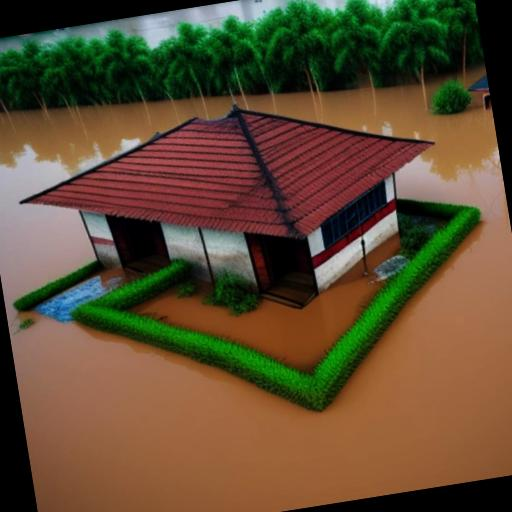flood: (0, 83, 512, 512), (130, 261, 385, 372), (69, 268, 142, 303), (367, 233, 401, 268), (426, 70, 462, 100), (466, 62, 486, 86)
house: (10, 76, 460, 354), (464, 67, 492, 115)
